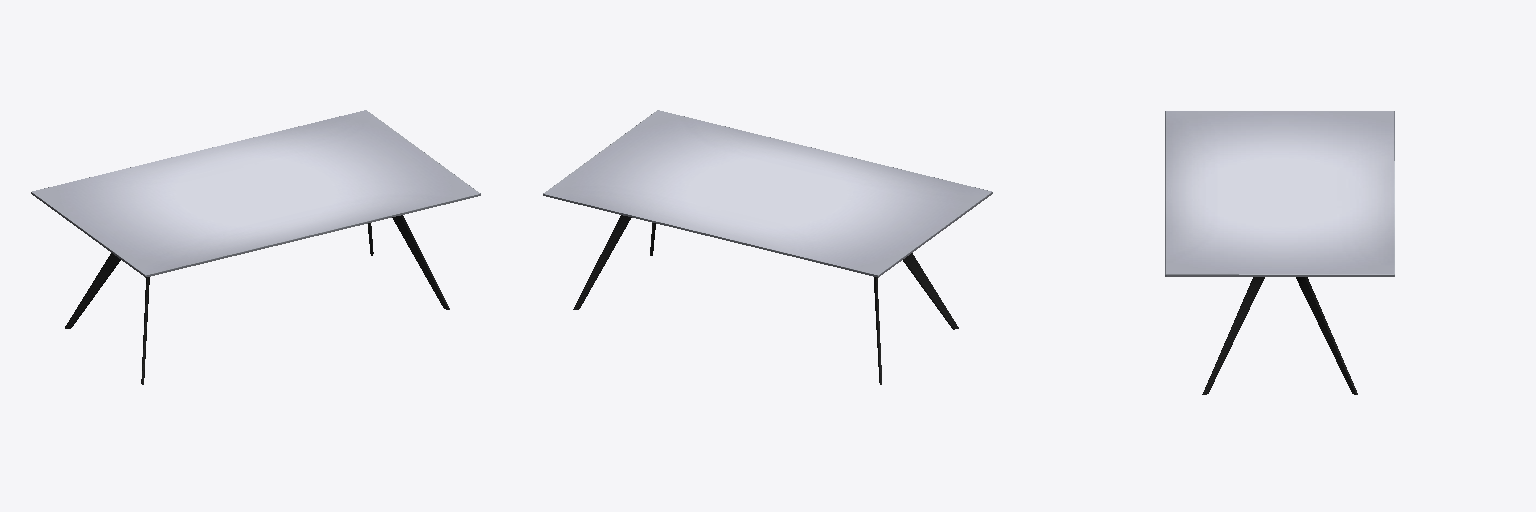
3 views of the same model, side by side, from view 1: azimuth 30°, elevation 25°; view 2: azimuth 150°, elevation 25°; view 3: azimuth 270°, elevation 25° (orthographic).
Visible parts, largest first — view 1: N_NO1; view 2: N_NO1; view 3: N_NO1.
Part boxes in pixels (x1,y1,x2,y2): N_NO1: (31,110,480,384); N_NO1: (543,110,992,384); N_NO1: (1165,111,1394,394).
Bounding box in the file's own units: 2 × 0.7208 × 1.18.
Materials: 1 (1 with a texture image).